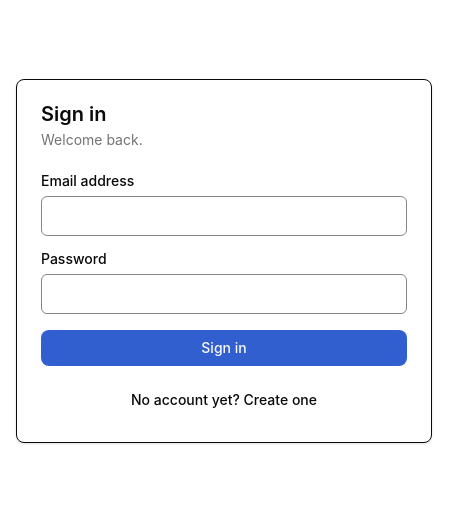
Test: a first-time arrival › reaches registration in one click, and can go back (AC-01)
This screenshot has width=449, height=524.
Click the button "No account yet? Create one".
click(224, 400)  # box [115, 382, 333, 418]
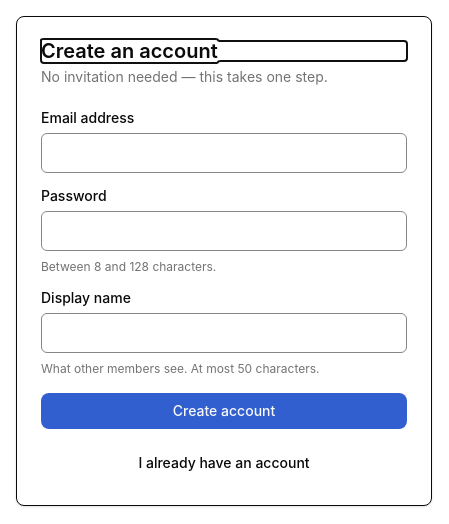
Result: the heading "Create an account" is shown at [41, 39, 218, 63]
Click the button "I already have an account".
click(224, 463)  # box [122, 445, 326, 481]
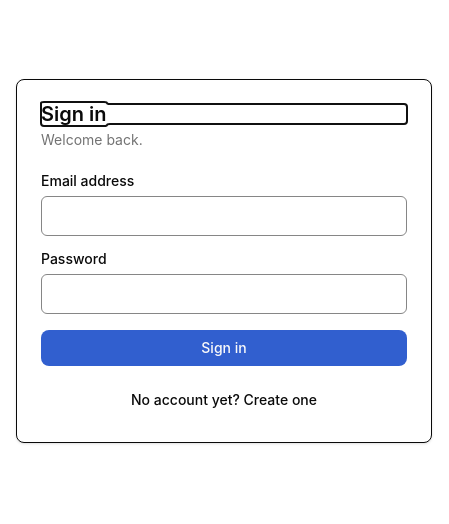
Result: the button "Sign in" is shown at [41, 330, 407, 366]
